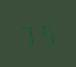five: (38, 20, 56, 45)
seven: (19, 21, 37, 47)
